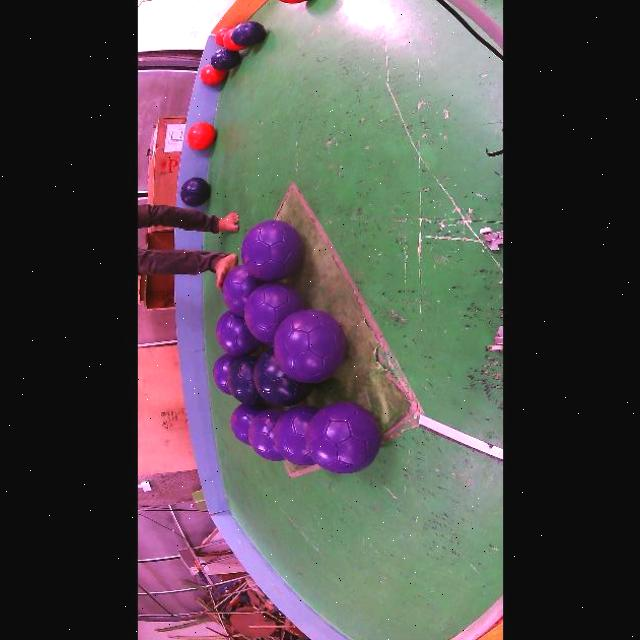B: (251, 349, 312, 406), (225, 356, 262, 405), (229, 22, 263, 49), (179, 177, 208, 206), (208, 48, 239, 71)
P: (303, 402, 380, 473), (272, 311, 344, 384), (240, 219, 302, 280), (243, 283, 304, 345), (272, 406, 317, 466), (215, 309, 260, 359), (223, 259, 262, 309), (246, 407, 283, 459), (229, 401, 266, 445), (211, 353, 234, 393)
R: (185, 123, 213, 149), (221, 29, 239, 52), (213, 26, 232, 46), (278, 0, 307, 3)
